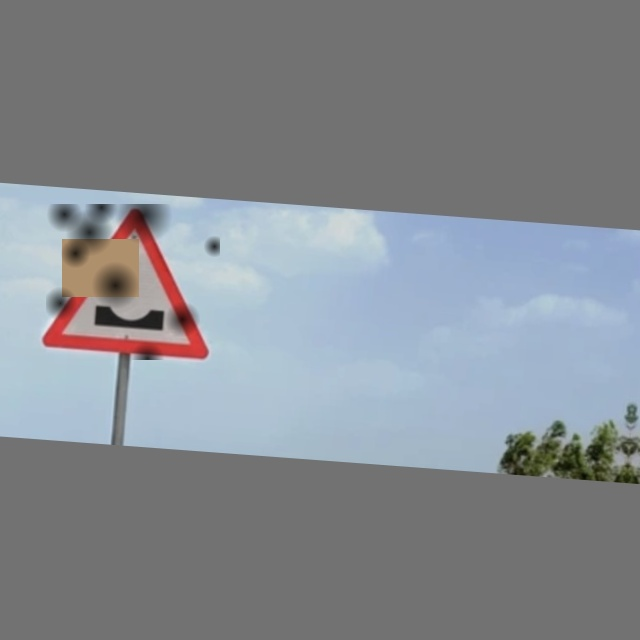Dangerous_Dip: (46, 204, 220, 360)
